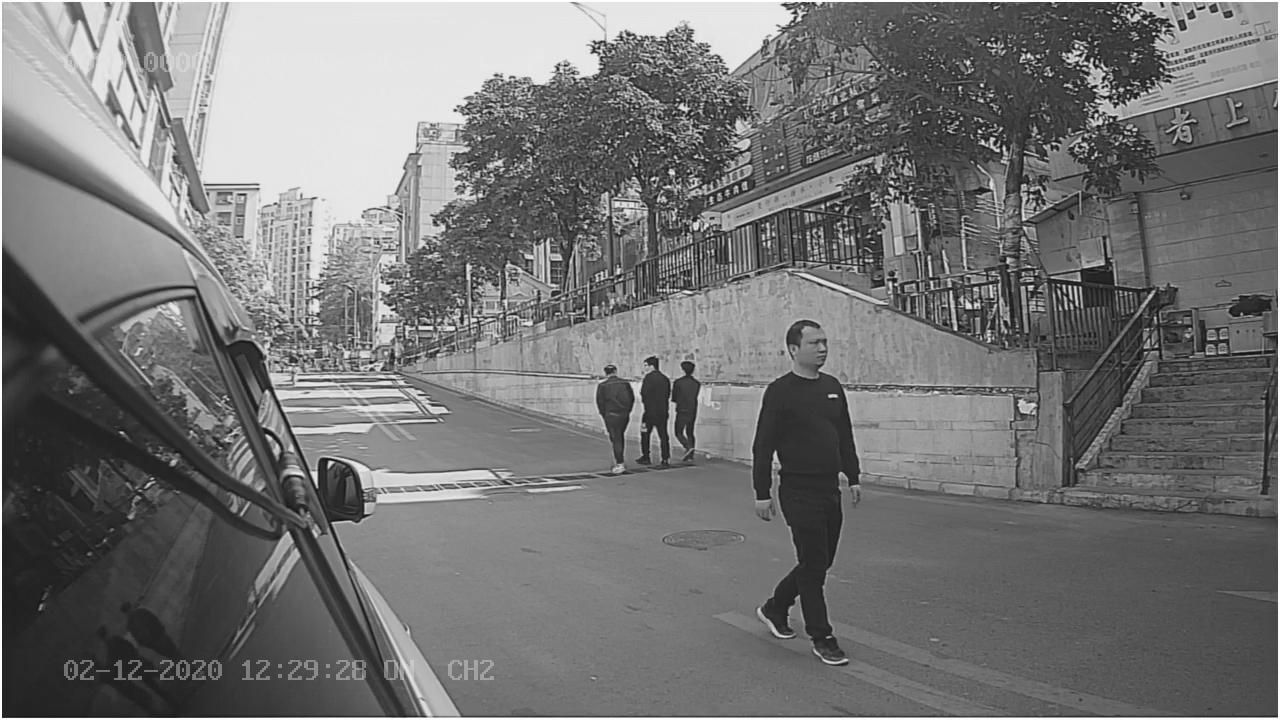person: (748, 318, 883, 665)
